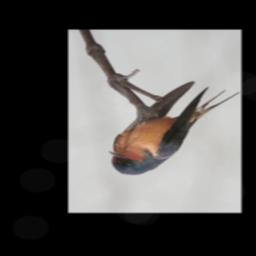Swallow: (108, 81, 238, 176)
